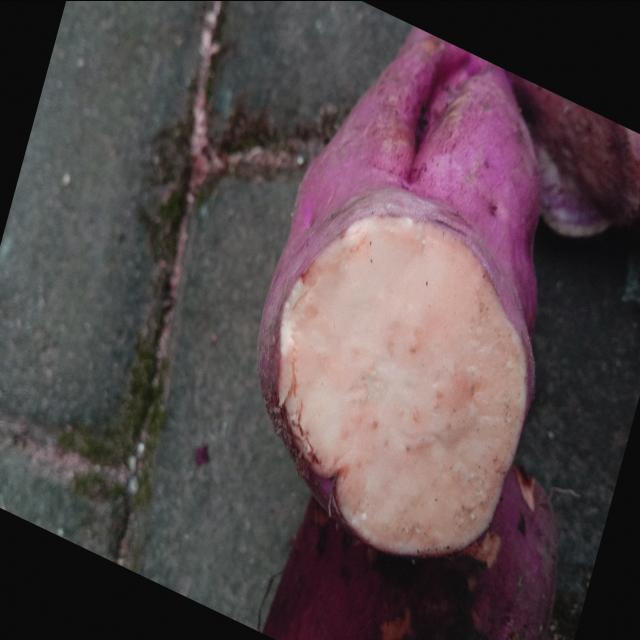Healthy Sweet Potato: (279, 215, 528, 553)
